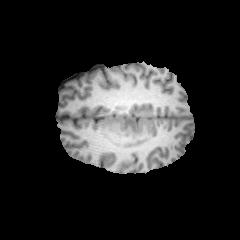glioma: (100, 116, 155, 148)
